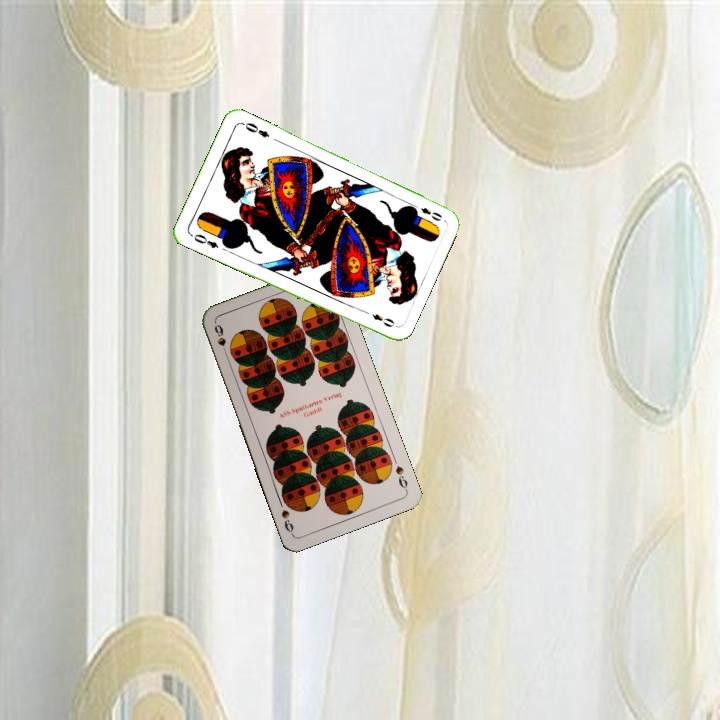EO: (407, 199, 445, 224), (187, 230, 221, 251)
S9: (210, 321, 232, 359), (391, 462, 410, 494)
